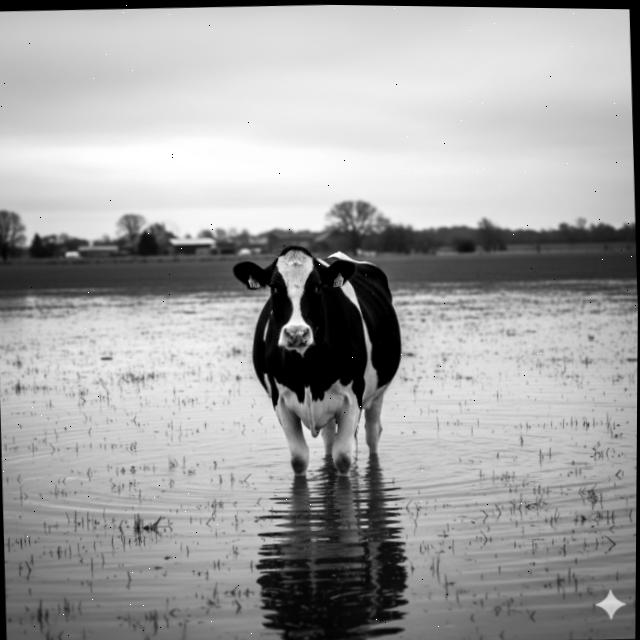cow: (214, 233, 422, 495)
